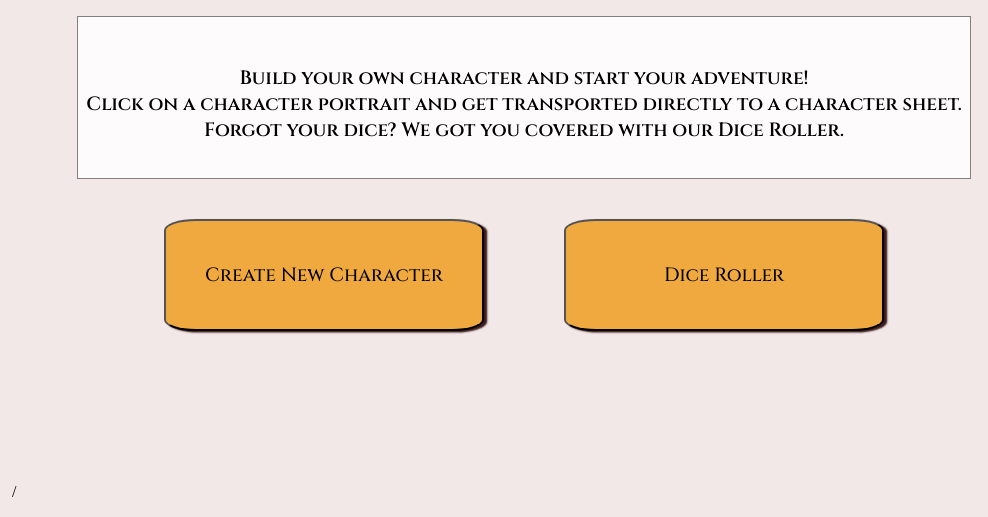
Test: when button clicked it navigates to the correct url
Step 1. Click the button "Dice Roller" → click(724, 275), box top-left (564, 219), bottom-right (884, 331)
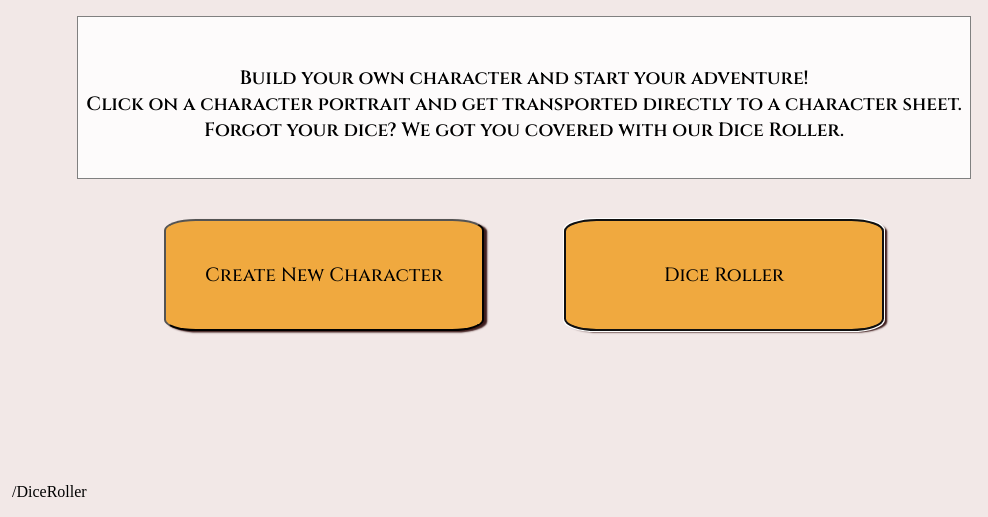
Result: the text with test id "location" reads "/DiceRoller" at top-left (12, 483), bottom-right (87, 500)
